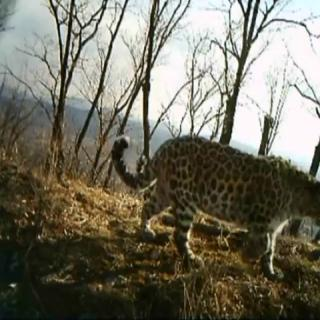Leopard: (108, 119, 320, 266)
